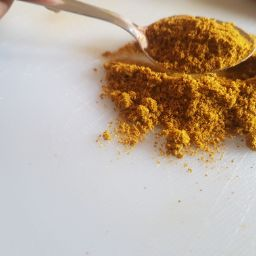Curry powder: (92, 36, 256, 166), (107, 71, 235, 159), (133, 11, 256, 82)
